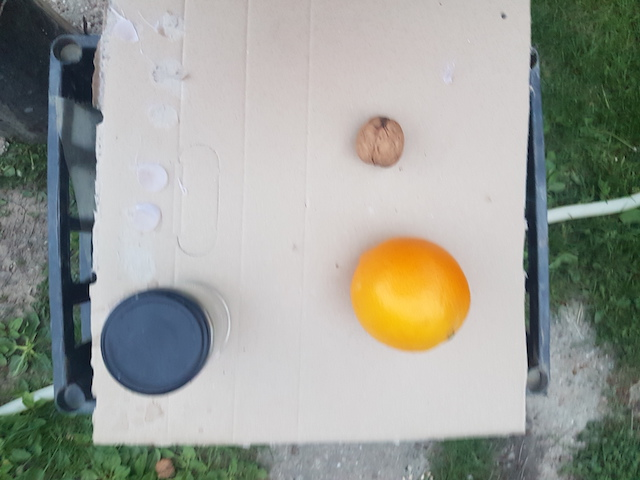nut: (356, 114, 406, 170)
orange: (347, 241, 471, 354)
recipient: (102, 288, 212, 397)
